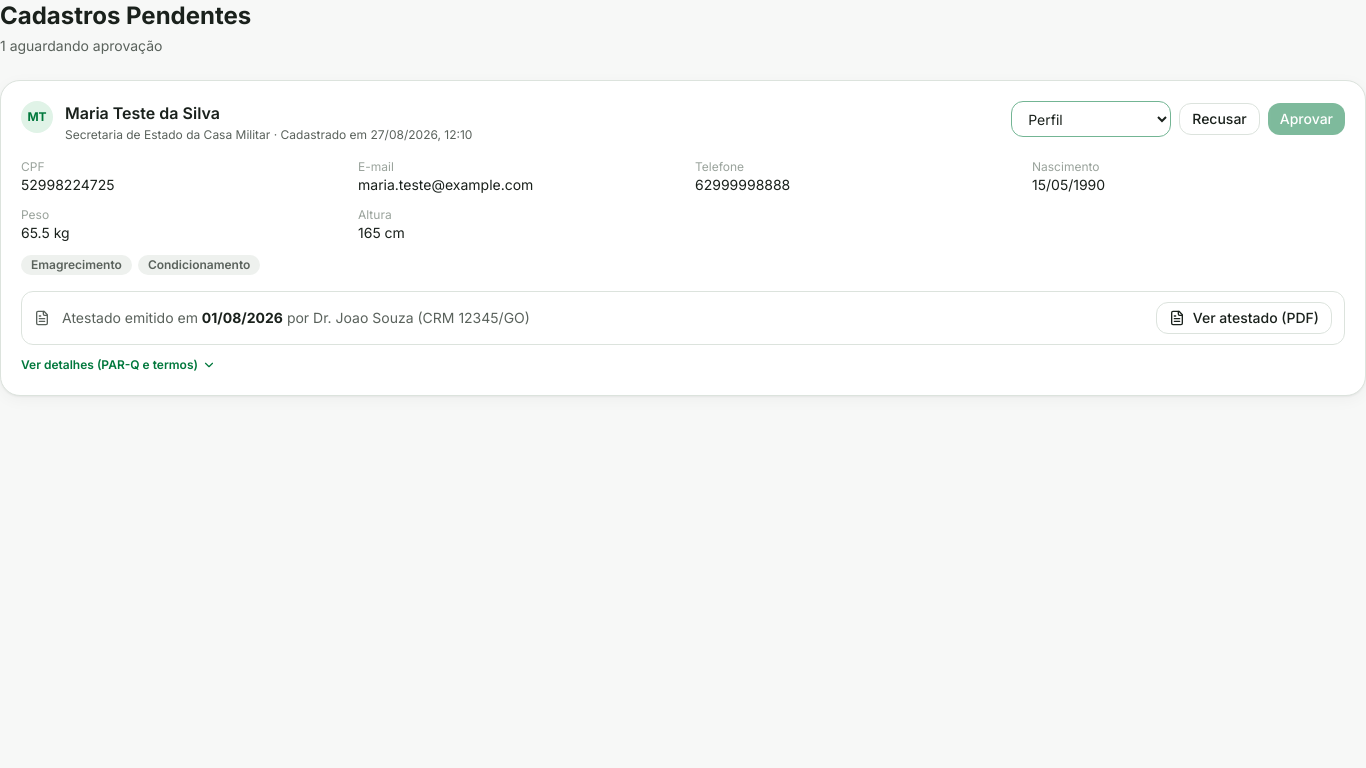
Test: PendingRegistrations - recusar › exige motivo antes de confirmar a recusa
Check: the text "Maria Teste da Silva" is shown, box x1=65 y1=101 x2=220 y2=125
Click the button "Recusar" at (1220,119), box x1=1179 y1=103 x2=1260 y2=135
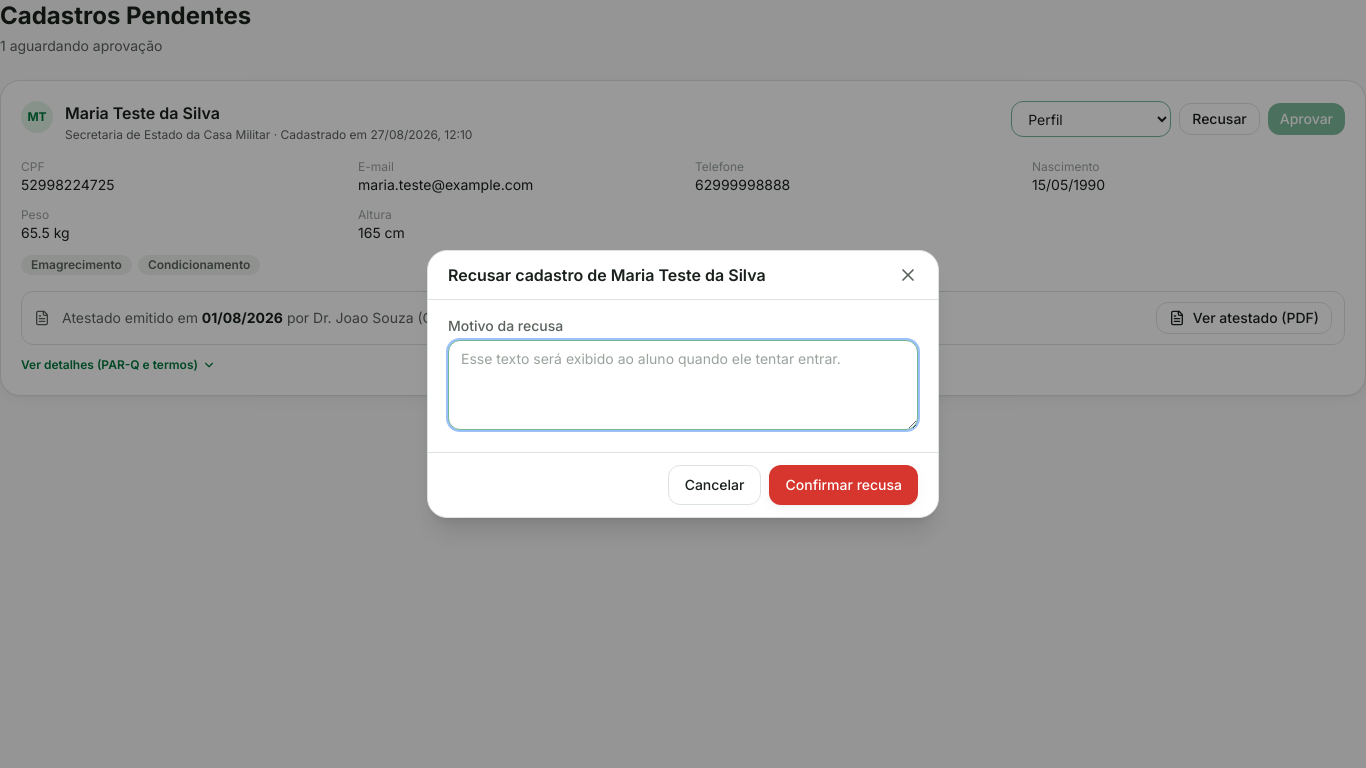
Check: the heading "Recusar cadastro de Maria Teste da Silva" is shown, box x1=448 y1=263 x2=766 y2=287
Click the button "Confirmar recusa" at (844,485), box x1=770 y1=465 x2=918 y2=505
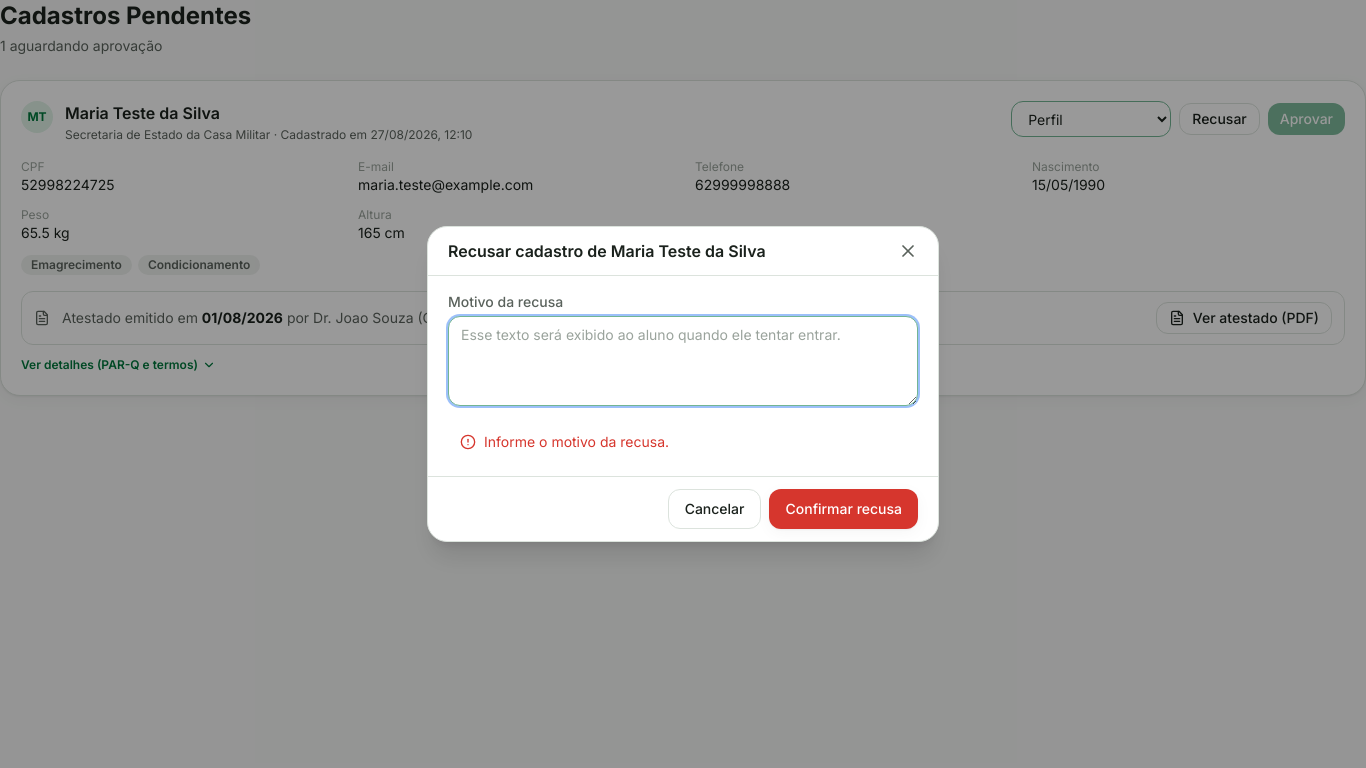
Check: the text "Informe o motivo da recusa." is shown, box x1=484 y1=432 x2=669 y2=452
